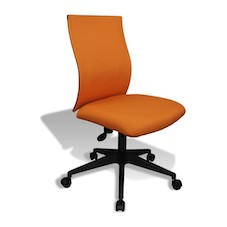chair: (41, 5, 202, 208)
